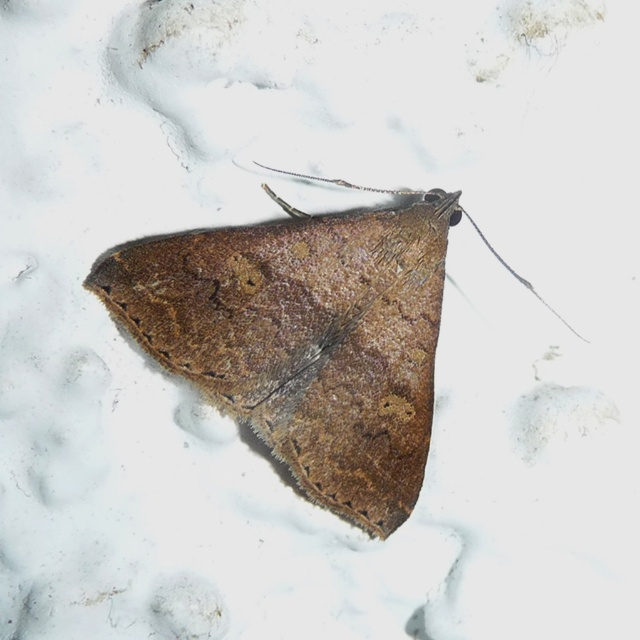Butterfly: (100, 177, 488, 535)
